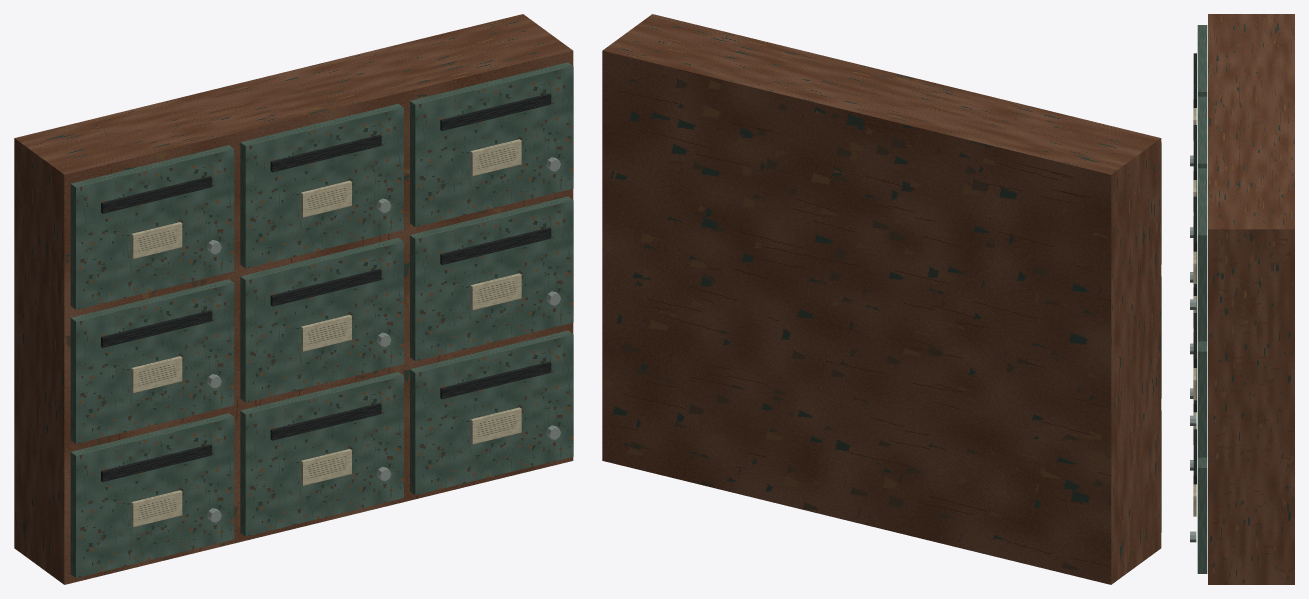
Rendered from Mailboxes.glb.
3 renders of one model, left to right at view 1: azimuth 30°, elevation 25°; view 2: azimuth 150°, elevation 25°; view 3: azimuth 270°, elevation 25°, orthographic. The views are drawn at different scales.
Parts seen in each view (by area): view 1: Mailboxes; view 2: Mailboxes; view 3: Mailboxes.
Boxes of the visible parts, box(x1,y1,x2,y2) form: Mailboxes: box(14, 14, 573, 584); Mailboxes: box(602, 14, 1161, 584); Mailboxes: box(1190, 14, 1294, 584).
Size of the model in its own units: 1.35 by 1.04 by 0.278.
5 materials, 5 textured.
